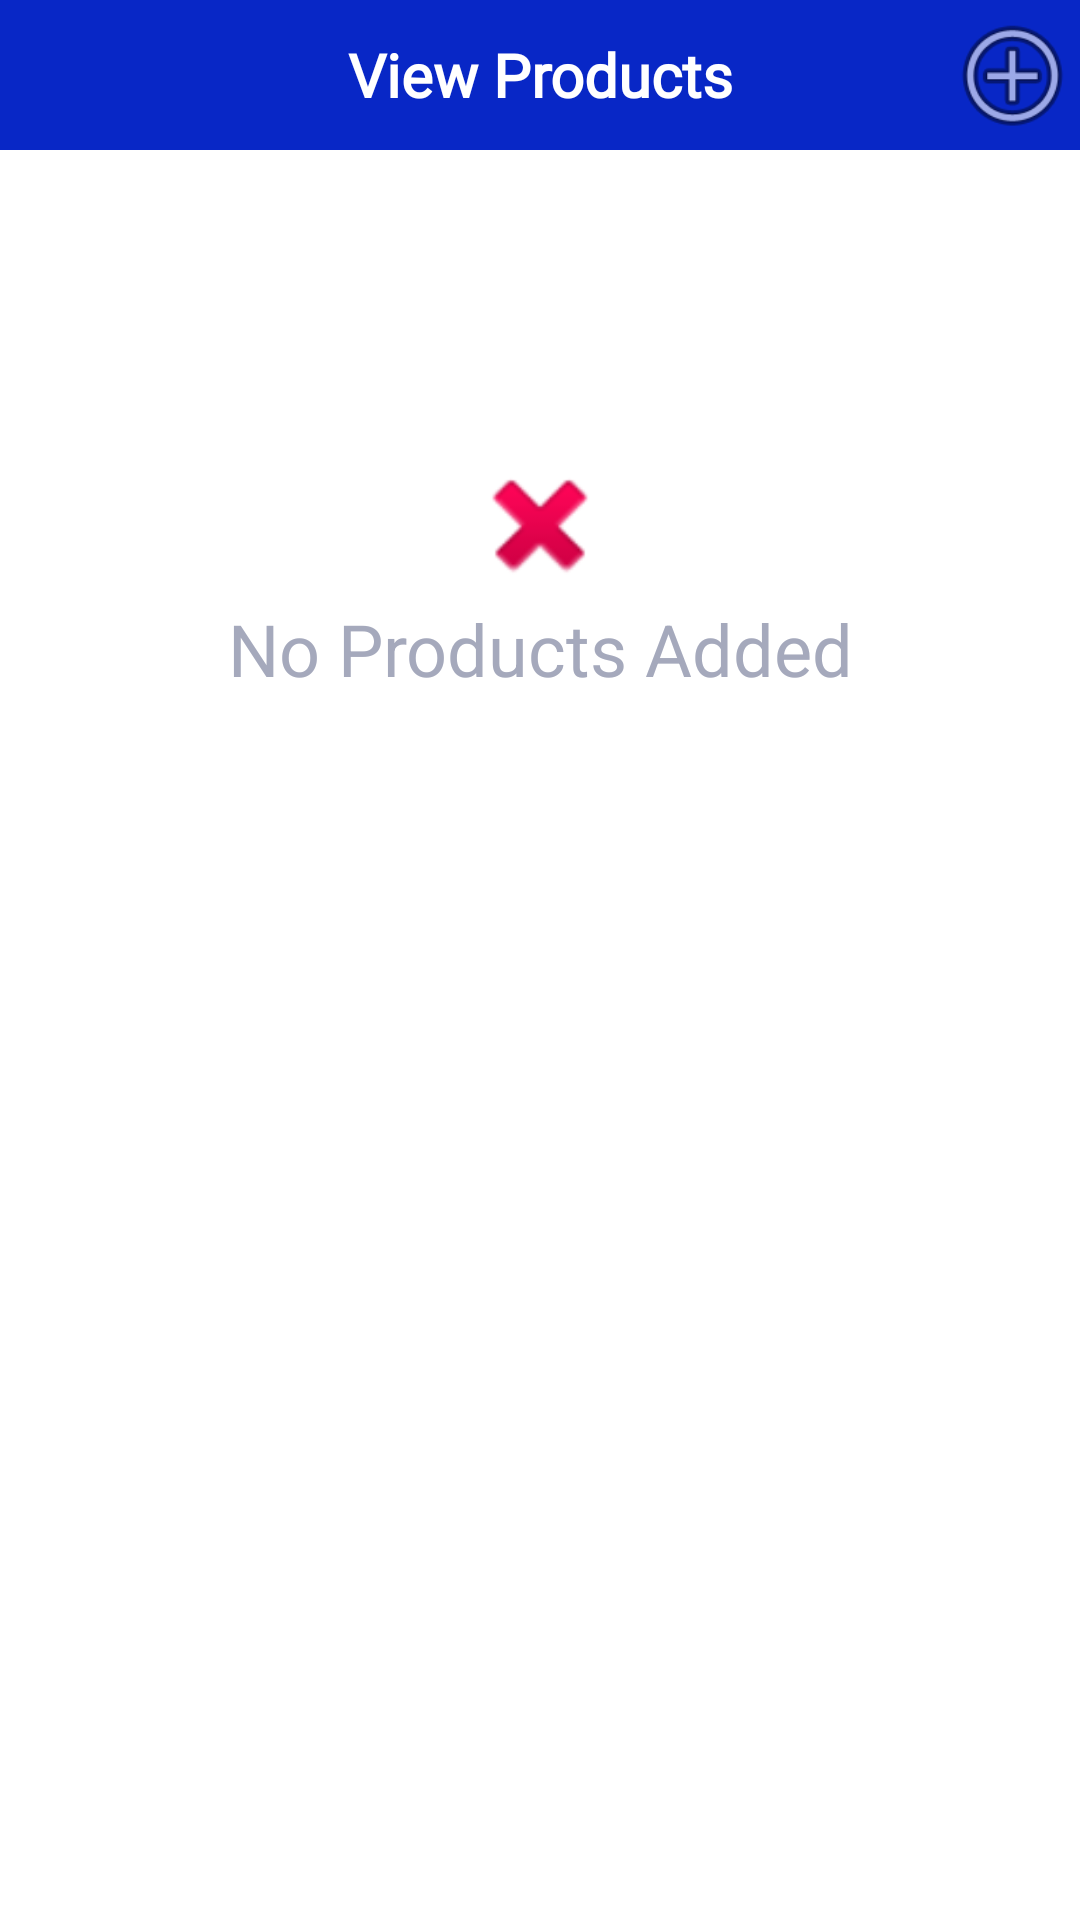

Screen size 1080px×1920px. Icon name, then its center in pixels as point (x, y):
add: point (1012, 76)
delete: point (540, 526)
